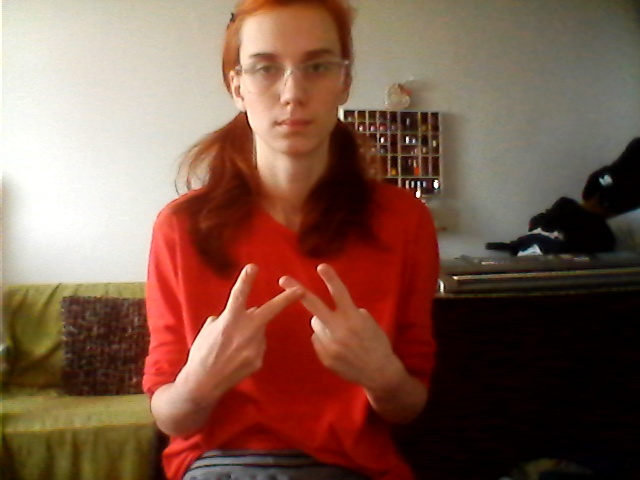w: (191, 250, 400, 392)
